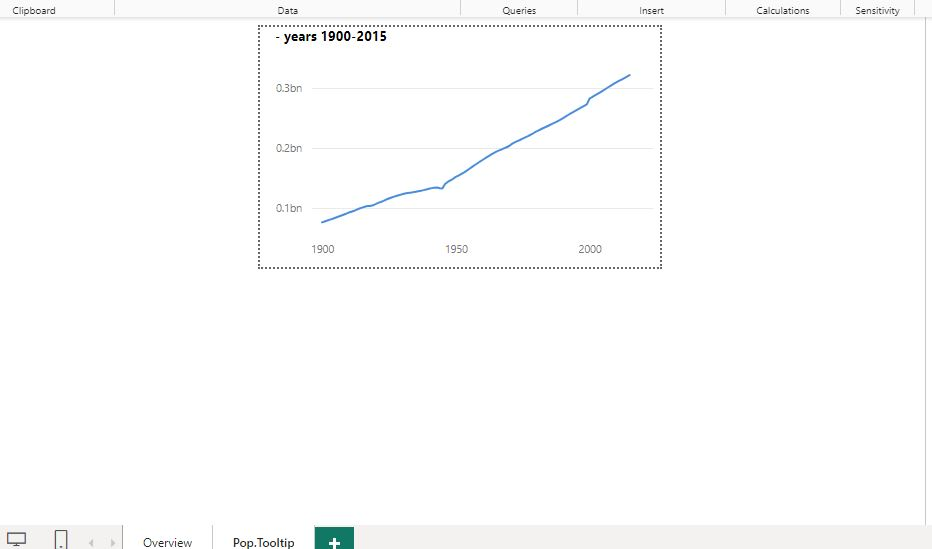

This screenshot's page, from the dashboard's own definition file:
{"tool":"powerbi","page":{"name":"Pop.Tooltip","canvas":[400,240],"ordinal":1},"visuals":[{"type":"lineChart","fields":{"Category":["states-population.Year"],"Y":["States.Population"]},"box":[10,0,390,240],"z":0}]}

Visuals, with their boxes on the page's 400x240 design canvas (x1, y1, x2, y2). These are canvas units, not pixel positions in the 932x549 screenshot, which may show the page scaled, cropped or inside an application window:
lineChart - states-population.Year x States.Population: [10, 0, 400, 240]
